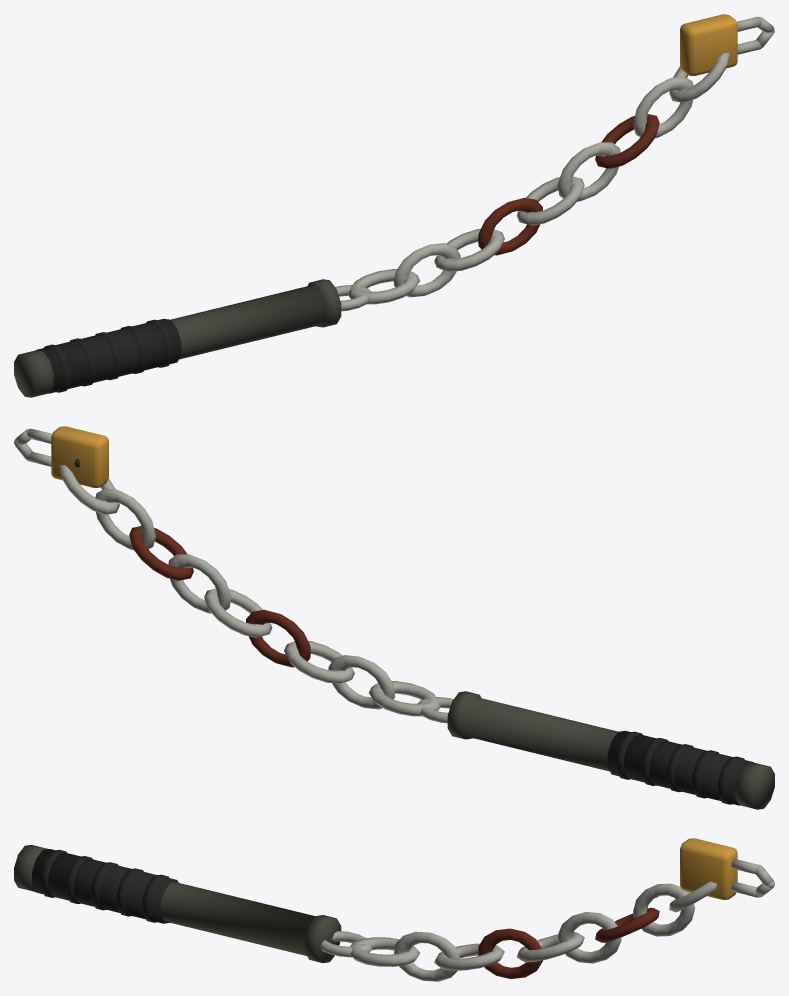
Rendered from item_chain.glb.
3 renders of one model, top to bottom at view 1: azimuth 30°, elevation 25°; view 2: azimuth 150°, elevation 25°; view 3: azimuth 330°, elevation 25°, orthographic.
Visible parts, largest first — view 1: handle, grip, lock, link_7, link_5, link_3, link_1, link_6, link_4, link_0, link_2, link_8; view 2: handle, grip, lock, link_7, link_5, link_3, link_1, link_6, link_4, link_0, link_2, link_8; view 3: handle, grip, lock, link_7, link_5, link_3, link_1, link_0, link_2, link_4, link_6, eye (+8 smaller).
Boxes of the visible parts, bbox=[...] form: handle: bbox=[14, 279, 341, 397]; grip: bbox=[36, 318, 181, 393]; lock: bbox=[680, 14, 737, 75]; link_7: bbox=[633, 76, 693, 138]; link_5: bbox=[557, 142, 620, 201]; link_3: bbox=[478, 197, 542, 255]; link_1: bbox=[393, 243, 460, 297]; link_6: bbox=[595, 114, 659, 168]; link_4: bbox=[516, 176, 584, 225]; link_0: bbox=[348, 269, 419, 304]; link_2: bbox=[434, 229, 504, 271]; link_8: bbox=[669, 53, 729, 102]; handle: bbox=[447, 691, 774, 809]; grip: bbox=[607, 730, 752, 805]; lock: bbox=[51, 426, 108, 487]; link_7: bbox=[95, 488, 155, 550]; link_5: bbox=[168, 554, 231, 613]; link_3: bbox=[246, 609, 310, 667]; link_1: bbox=[328, 655, 395, 709]; link_6: bbox=[129, 526, 193, 580]; link_4: bbox=[204, 588, 272, 637]; link_0: bbox=[369, 681, 440, 716]; link_2: bbox=[284, 641, 354, 683]; link_8: bbox=[59, 465, 119, 514]; handle: bbox=[14, 845, 341, 962]; grip: bbox=[32, 849, 178, 923]; lock: bbox=[680, 838, 737, 899]; link_7: bbox=[633, 883, 695, 936]; link_5: bbox=[557, 912, 621, 963]; link_3: bbox=[478, 928, 542, 978]; link_1: bbox=[394, 931, 460, 981]; link_0: bbox=[350, 937, 419, 966]; link_2: bbox=[434, 943, 504, 970]; link_4: bbox=[516, 932, 584, 962]; link_6: bbox=[595, 907, 659, 942]; eye: bbox=[320, 931, 372, 957].
Bounding box in the file's own units: 0.823 × 0.2203 × 0.0503.
